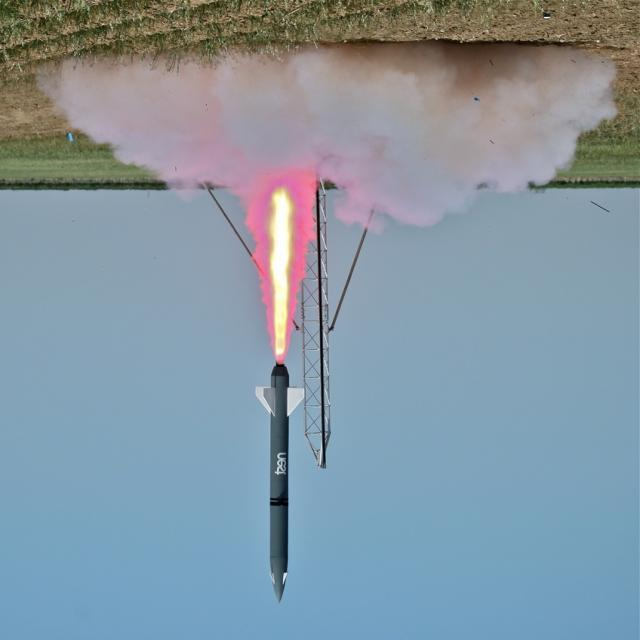missile: (254, 355, 307, 603)
